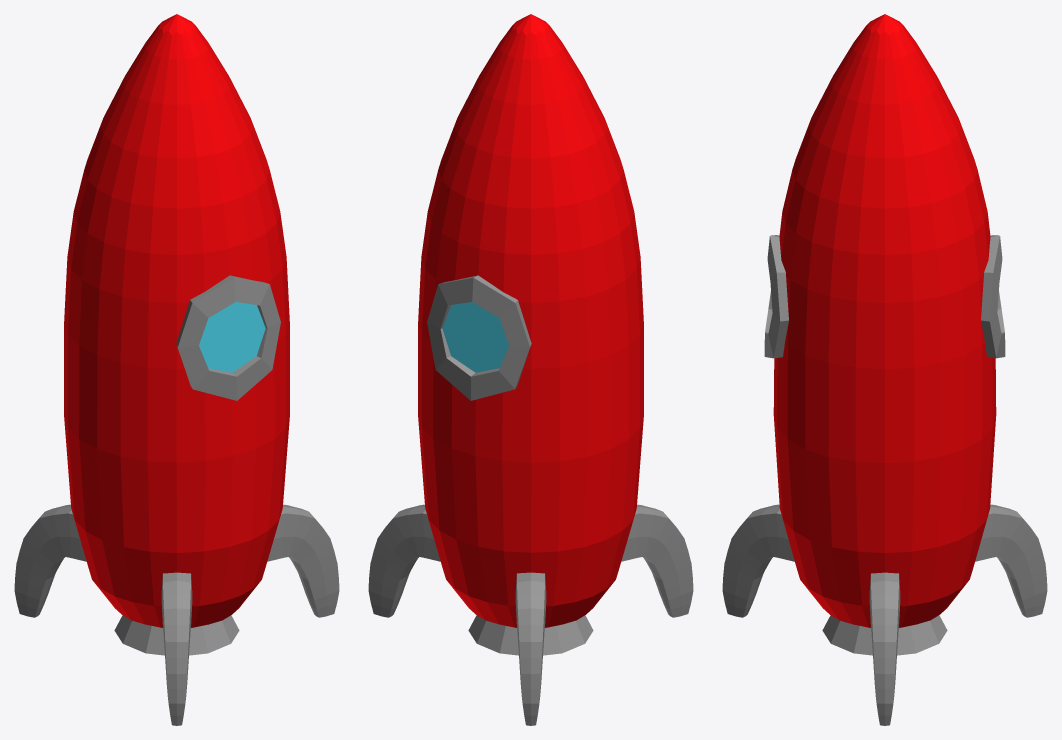
File: rocket.fbx
3 renders of one model, left to right at view 1: azimuth 30°, elevation 25°; view 2: azimuth 150°, elevation 25°; view 3: azimuth 270°, elevation 25°, orthographic.
Visible parts, largest first — view 1: Rocket, Feet, WindowExt, WindowInt, Cone; view 2: Rocket, Feet, WindowExt, WindowInt, Cone; view 3: Rocket, Feet, WindowExt, Cone.
Boxes of the visible parts, x1,y1,x2,y2 form: Rocket: [64, 14, 289, 627]; Feet: [14, 504, 339, 725]; WindowExt: [176, 275, 280, 400]; WindowInt: [199, 302, 265, 372]; Cone: [114, 615, 239, 655]; Rocket: [418, 14, 643, 627]; Feet: [368, 504, 693, 725]; WindowExt: [427, 275, 531, 400]; WindowInt: [442, 302, 508, 372]; Cone: [468, 615, 593, 655]; Rocket: [773, 14, 996, 627]; Feet: [722, 504, 1047, 725]; WindowExt: [764, 235, 1005, 358]; Cone: [822, 615, 947, 655].
Bounding box in the file's own units: 278 × 659 × 305.
